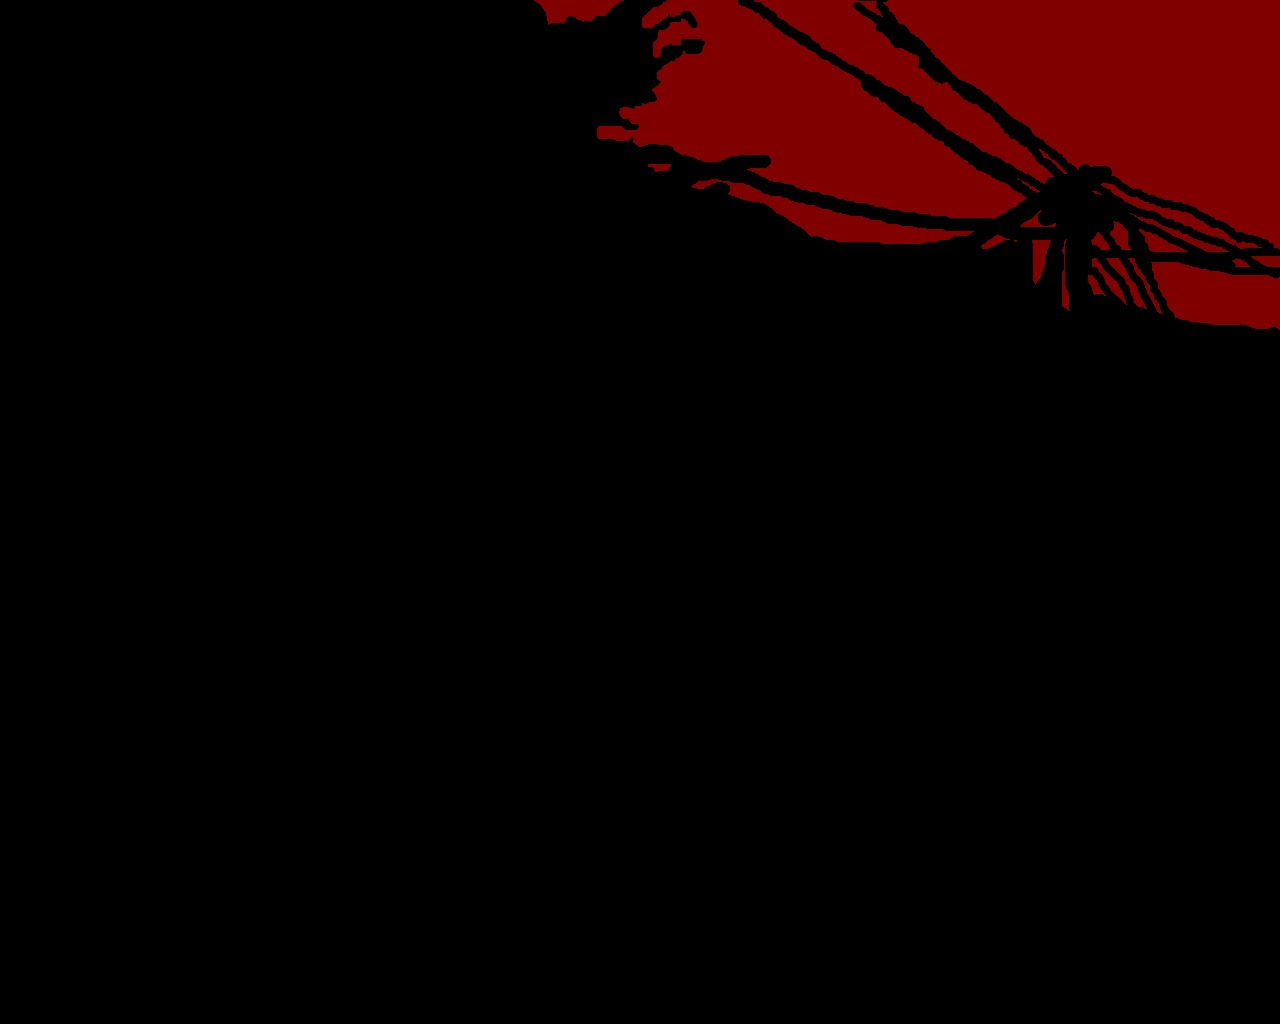Sky: (535, 1, 1279, 330)
